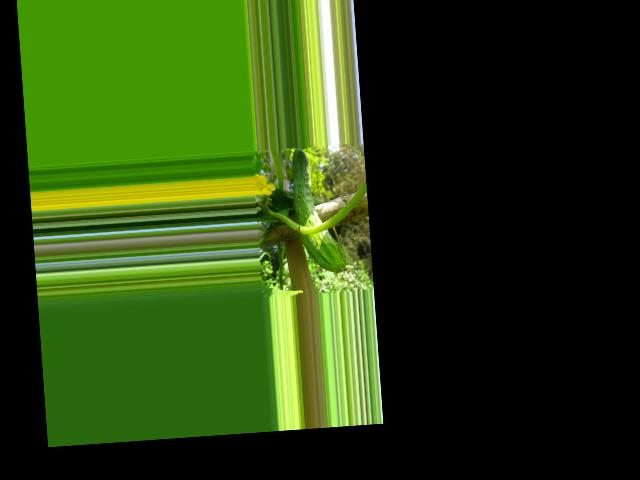cucumber: (290, 144, 345, 275)
